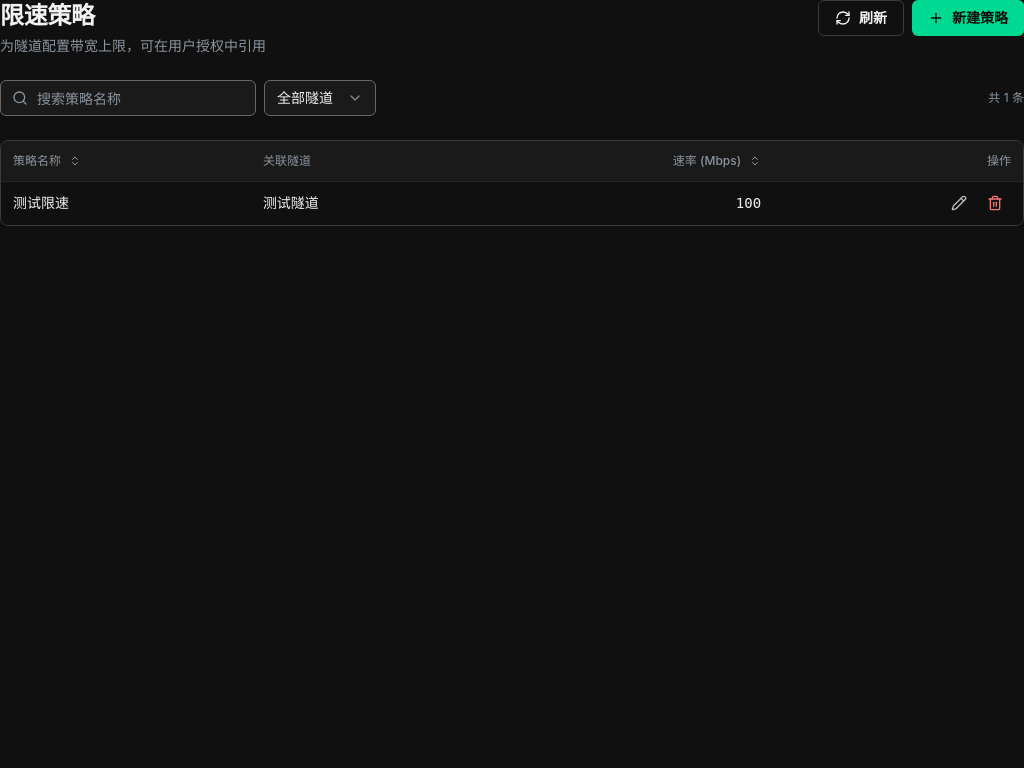
Test: 真实页面的无障碍契约 › 真实限速表单可按标签操作，行编辑/删除按钮有名称
Check: the button named "编辑限速策略" is shown, box [943,187,975,219]
Check: the button named "删除限速策略" is shown, box [979,187,1011,219]
What coordinates should you click on to do the following:
click the button "新建策略"
I would click on:
 (968, 18)
Its box is [912,0,1023,36].
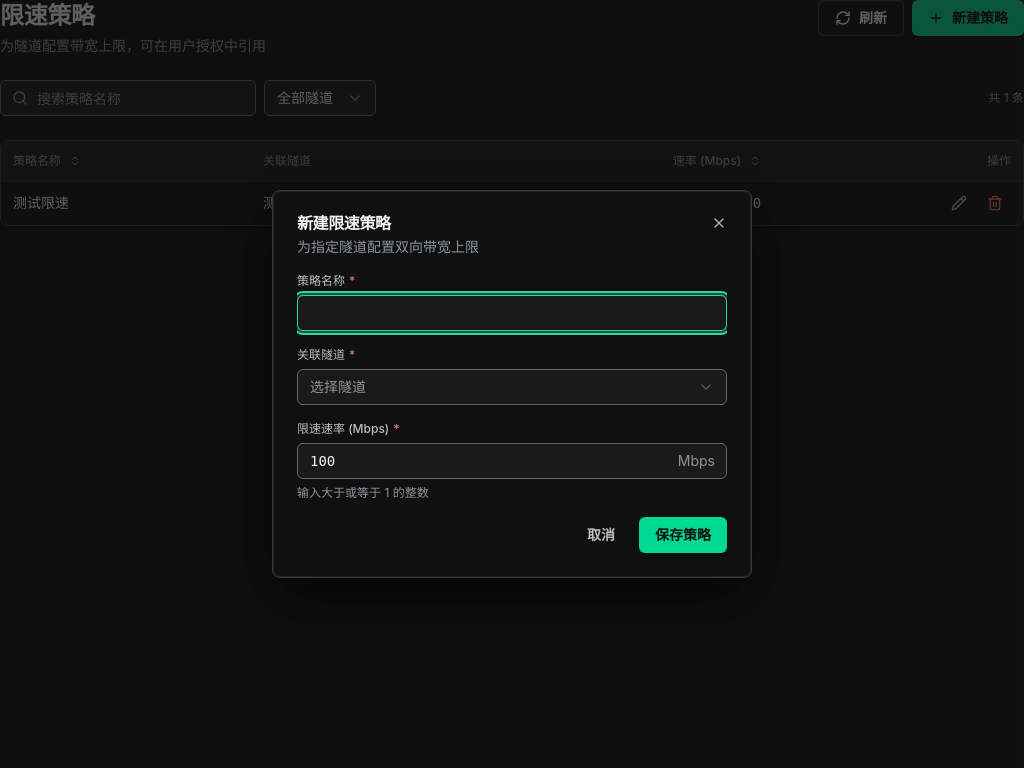
Check: the field labelled "策略名称" is shown, box [297,295,727,331]
Check: the number field labelled "限速速率 (Mbps)" is shown, box [297,443,727,479]
